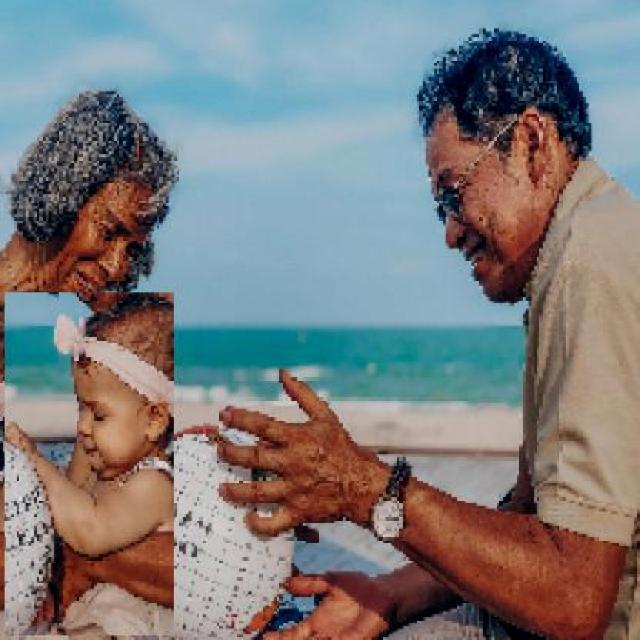child: (3, 292, 174, 637)
